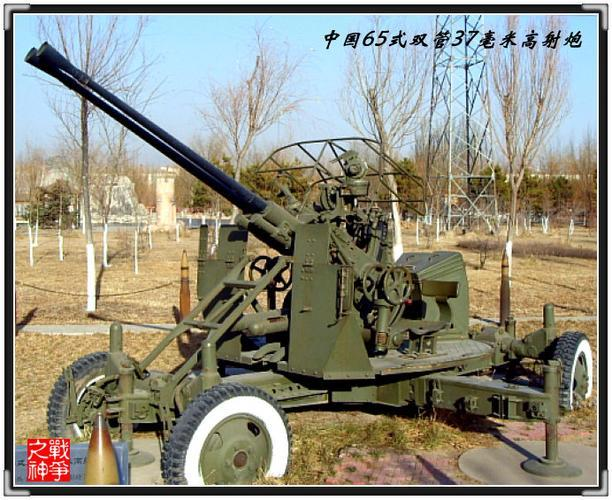MIL_SPG: (27, 43, 593, 485)
